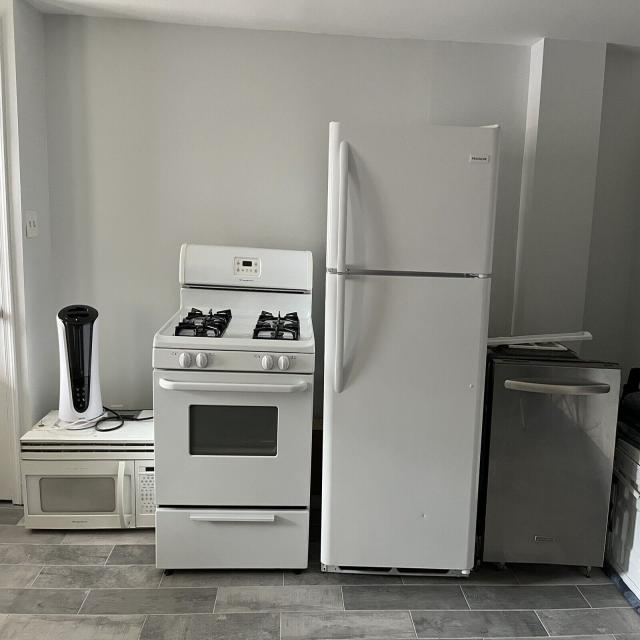refrigerator: (321, 123, 502, 577)
